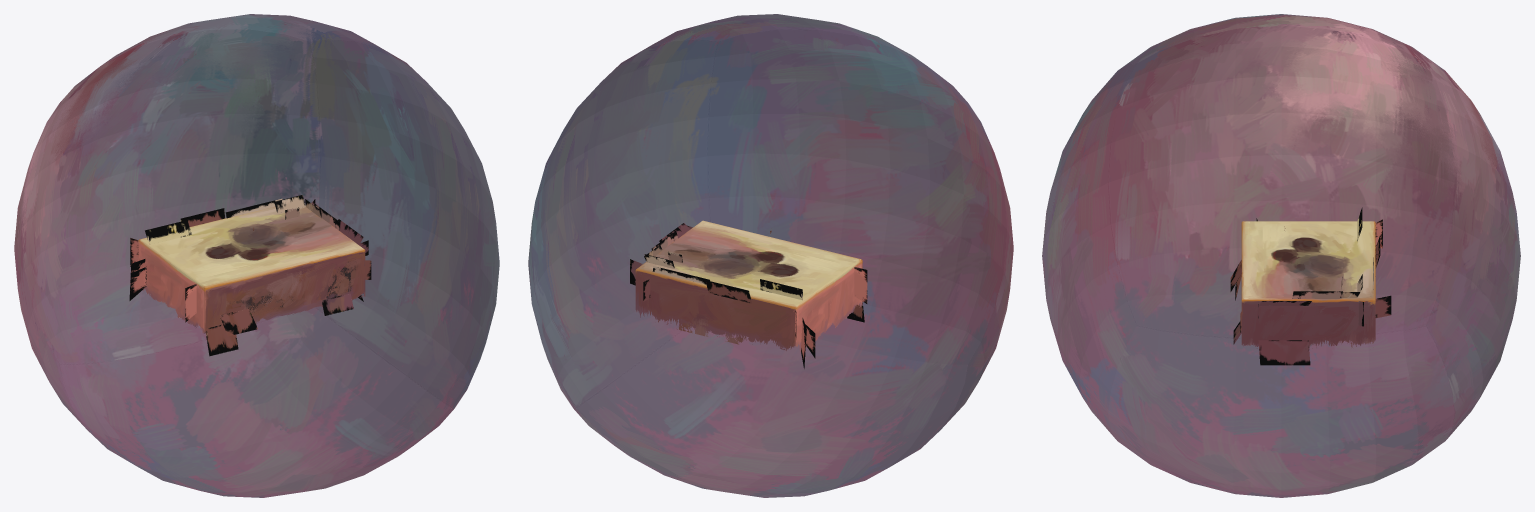
Rendered from frame.glb.
The picture shows the model from 3 angles, left to right: view 1: azimuth 30°, elevation 25°; view 2: azimuth 150°, elevation 25°; view 3: azimuth 270°, elevation 25°; orthographic projection.
Parts seen in each view (by area): view 1: Cube.001_12, Cube_13, Cube.003_11; view 2: Cube.001_12, Cube_13, Cube.003_11; view 3: Cube.001_12, Cube_13, Cube.003_11.
Boxes of the visible parts, x1,y1,x2,y2 form: Cube.001_12: [14, 14, 499, 497]; Cube_13: [138, 206, 365, 333]; Cube.003_11: [129, 195, 371, 356]; Cube.001_12: [528, 14, 1013, 497]; Cube_13: [635, 220, 862, 352]; Cube.003_11: [630, 223, 864, 368]; Cube.001_12: [1042, 14, 1520, 497]; Cube_13: [1241, 221, 1375, 348]; Cube.003_11: [1230, 207, 1391, 365].
Bounding box in the file's own units: 11.73 × 11.73 × 11.73.
3 materials, 3 textured.
